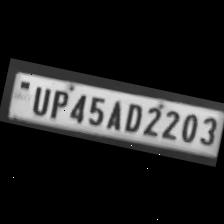0: (174, 108, 200, 144)
2: (156, 105, 182, 141), (139, 103, 164, 139)
3: (194, 112, 220, 148)
4: (64, 88, 90, 124)
5: (81, 91, 107, 127)
A: (102, 96, 126, 132)
D: (118, 98, 144, 134)
P: (43, 84, 69, 119)
U: (25, 81, 51, 116)
